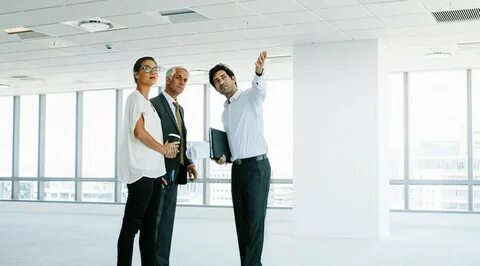awake: (208, 50, 274, 266), (115, 55, 173, 266), (148, 65, 199, 266)
